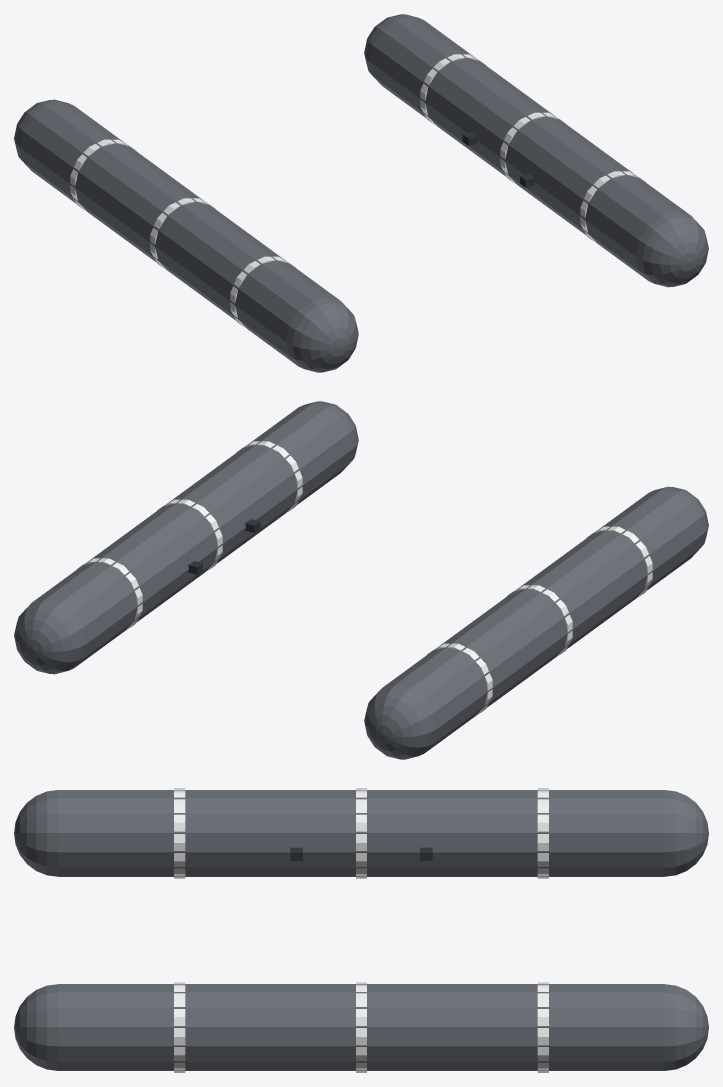
Rendered from ridgeback_4x4.glb.
3 renders of one model, top to bottom at view 1: azimuth 30°, elevation 25°; view 2: azimuth 150°, elevation 25°; view 3: azimuth 270°, elevation 25°, orthographic. The views are drawn at different scales.
Visible parts, largest first — view 1: model; view 2: model; view 3: model.
Part boxes in pixels (x1,y1,x2,y2): model: [14, 14, 708, 372]; model: [14, 401, 708, 759]; model: [14, 788, 708, 1072].
Bounding box in the file's own units: 2.96 × 0.4895 × 3.75.
Materials: 1 (1 with a texture image).
